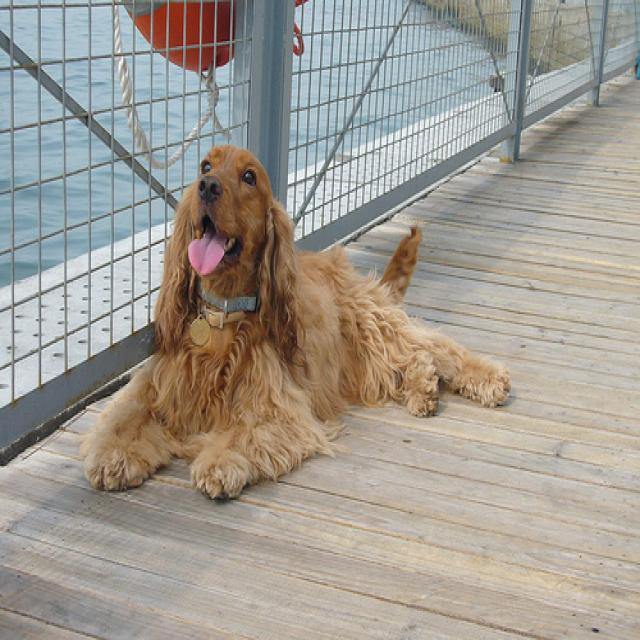dog-english_cocker_spaniel: (83, 130, 509, 500)
